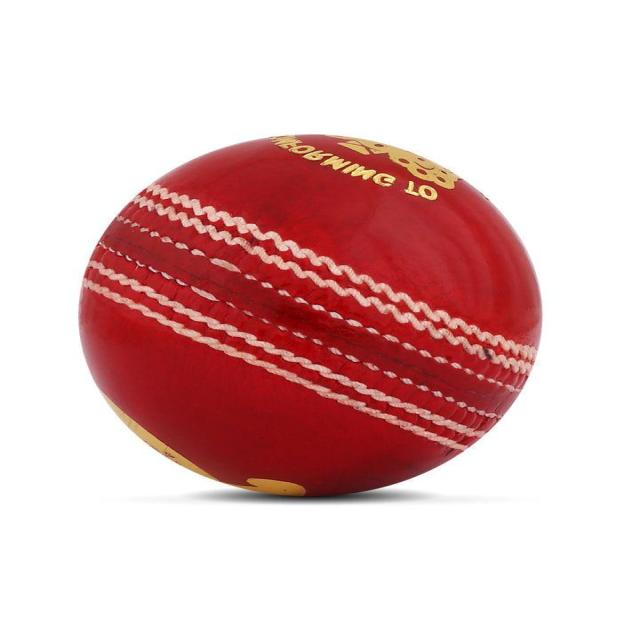ball: (78, 133, 542, 496)
